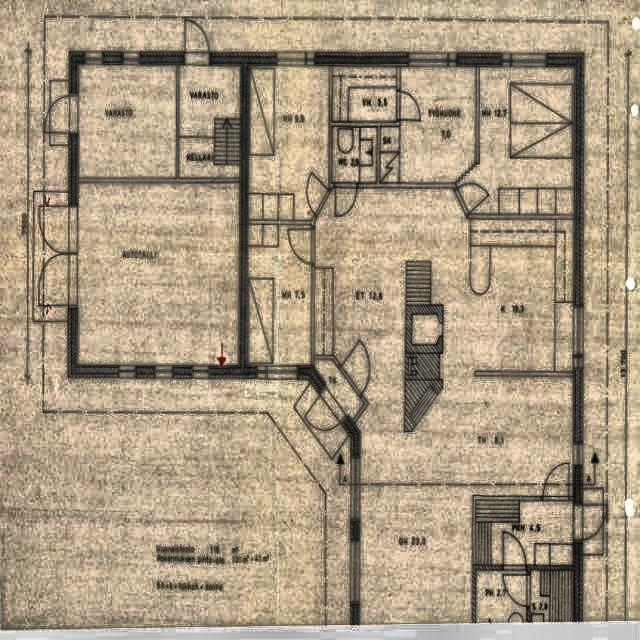room: (78, 184, 240, 367), (457, 67, 574, 214), (248, 66, 329, 220), (380, 67, 476, 183), (79, 65, 176, 178), (247, 225, 311, 365), (179, 66, 241, 177), (476, 500, 573, 564), (333, 67, 396, 121), (333, 127, 377, 182)
